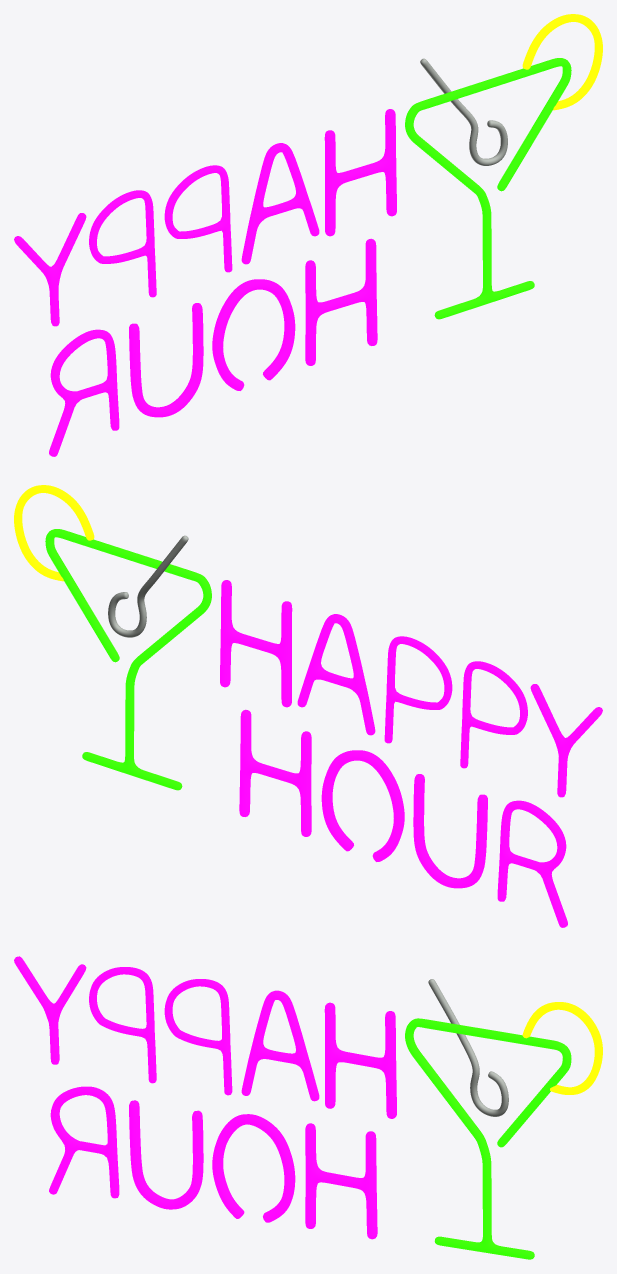
Rendered from happyHour.fbx.
The picture shows the model from 3 angles, top to bottom: view 1: azimuth 30°, elevation 25°; view 2: azimuth 150°, elevation 25°; view 3: azimuth 330°, elevation 25°; orthographic projection.
Visible parts, largest first — view 1: happy_hour_sign; view 2: happy_hour_sign; view 3: happy_hour_sign.
Part boxes in pixels (x1,y1,x2,y2): happy_hour_sign: (14, 14, 602, 456); happy_hour_sign: (14, 485, 602, 927); happy_hour_sign: (14, 956, 602, 1259).
Size of the model in its own units: 462 by 238 by 11.75.
